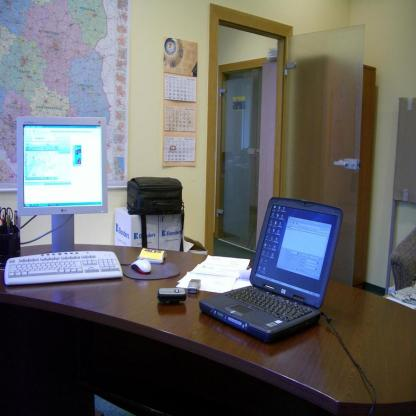board: (198, 191, 340, 344)
